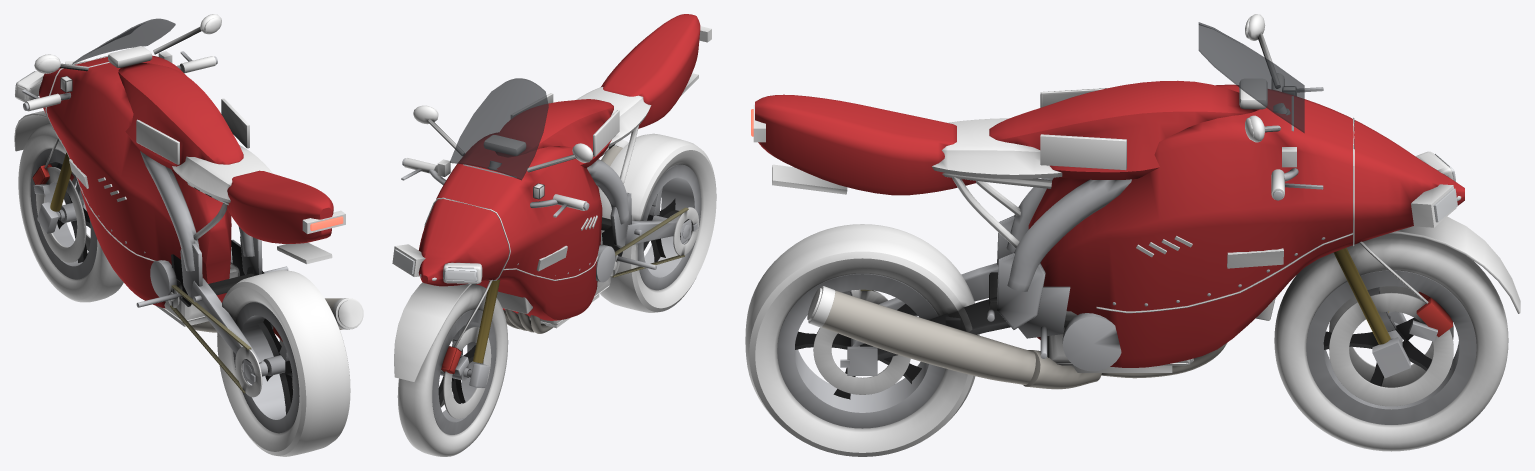
Rendered from moto1.fbx.
3 views of the same model, side by side, from view 1: azimuth 30°, elevation 25°; view 2: azimuth 150°, elevation 25°; view 3: azimuth 270°, elevation 25° (orthographic). The views are drawn at different scales.
Visible parts, largest first — view 1: body, rear, front, steer, swing, screen; view 2: body, rear, front, steer, screen, swing; view 3: body, front, rear, steer, screen, swing.
Part boxes in pixels (bbox=[...]): body: bbox=[15, 14, 363, 332]; rear: bbox=[217, 270, 350, 456]; front: bbox=[18, 123, 123, 302]; steer: bbox=[14, 51, 217, 233]; swing: bbox=[168, 266, 282, 393]; screen: bbox=[72, 18, 175, 63]; body: bbox=[392, 14, 711, 333]; rear: bbox=[599, 133, 716, 312]; front: bbox=[397, 284, 508, 456]; steer: bbox=[394, 158, 589, 388]; screen: bbox=[450, 78, 548, 180]; swing: bbox=[601, 207, 697, 277]; body: bbox=[751, 14, 1464, 389]; front: bbox=[1274, 233, 1508, 451]; rear: bbox=[745, 224, 979, 456]; steer: bbox=[1271, 73, 1520, 378]; screen: bbox=[1198, 22, 1304, 132]; swing: bbox=[840, 263, 1010, 375].
Size of the model in its own units: 0.744 by 1.23 by 2.05.
